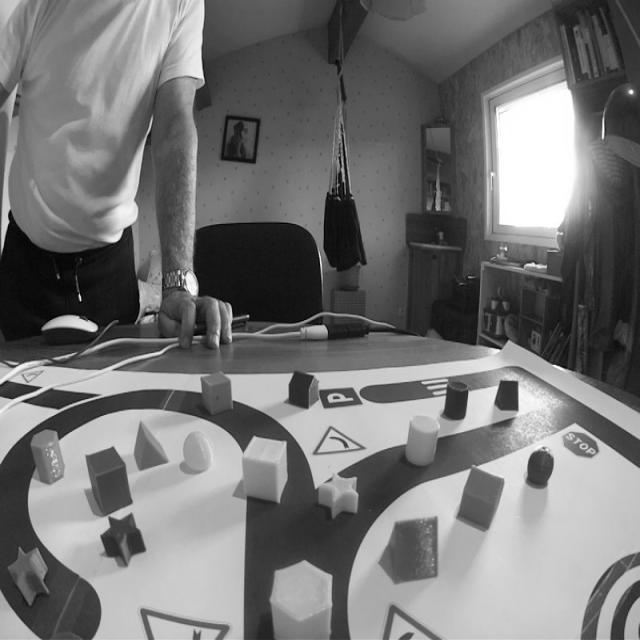ball: (180, 427, 217, 478), (525, 444, 557, 490)
cube: (240, 432, 291, 513), (82, 445, 137, 519), (198, 368, 237, 420)
cylinder: (404, 410, 440, 468), (439, 377, 471, 423)
hexagon: (267, 552, 336, 640), (29, 423, 67, 488)
home: (455, 459, 507, 537), (286, 367, 320, 410)
star: (2, 544, 52, 610), (98, 511, 150, 574), (314, 468, 364, 522)
triangle: (376, 509, 441, 588), (131, 418, 173, 474), (493, 374, 522, 417)
